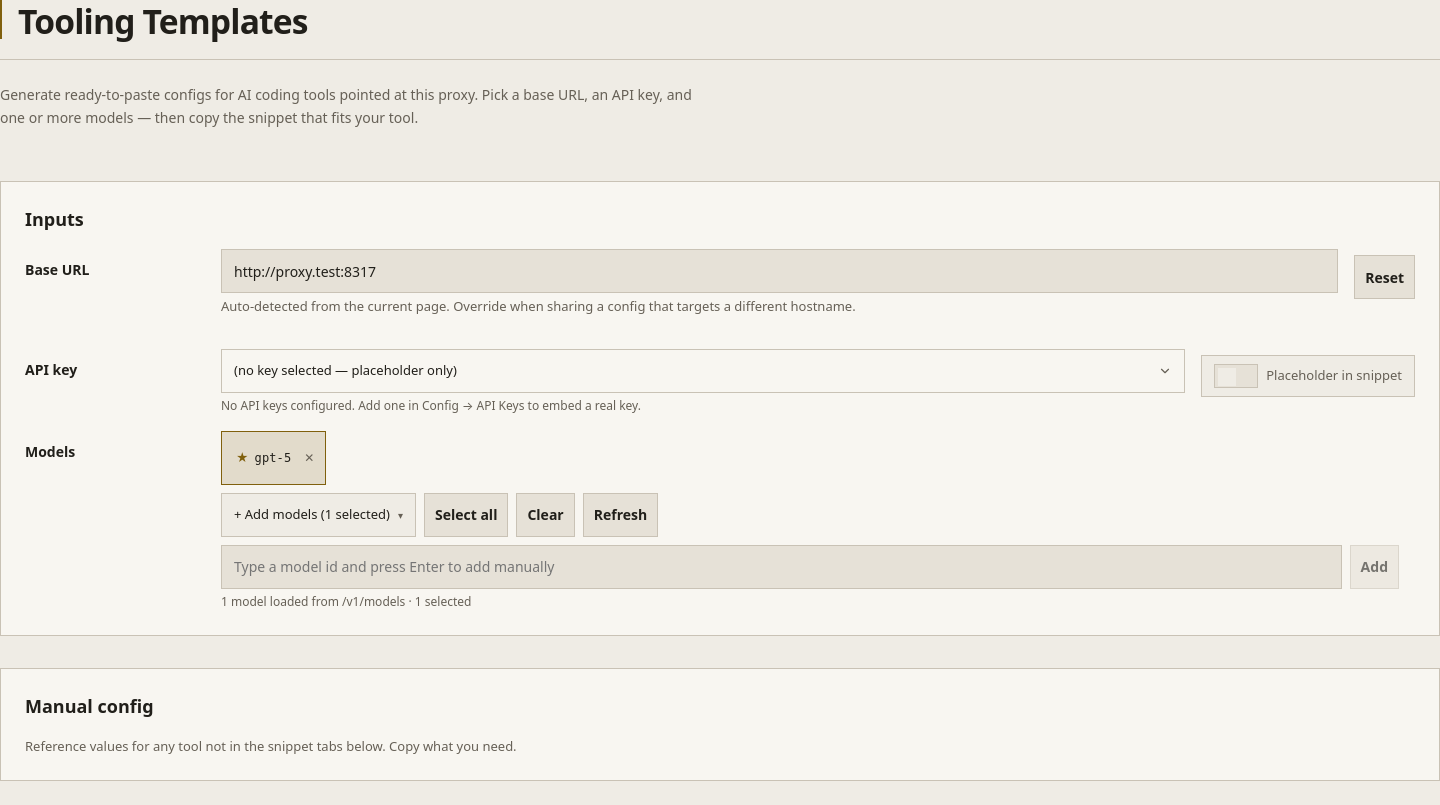
Test: ToolingTemplatesPage model chip actions › removes a model chip when its remove button is clicked
Expected: the text "gpt-5" is shown, x1=254 y1=448 x2=291 y2=466
Step 1. Click the button named "Remove gpt-5" → (309, 458), box x1=299 y1=436 x2=319 y2=480
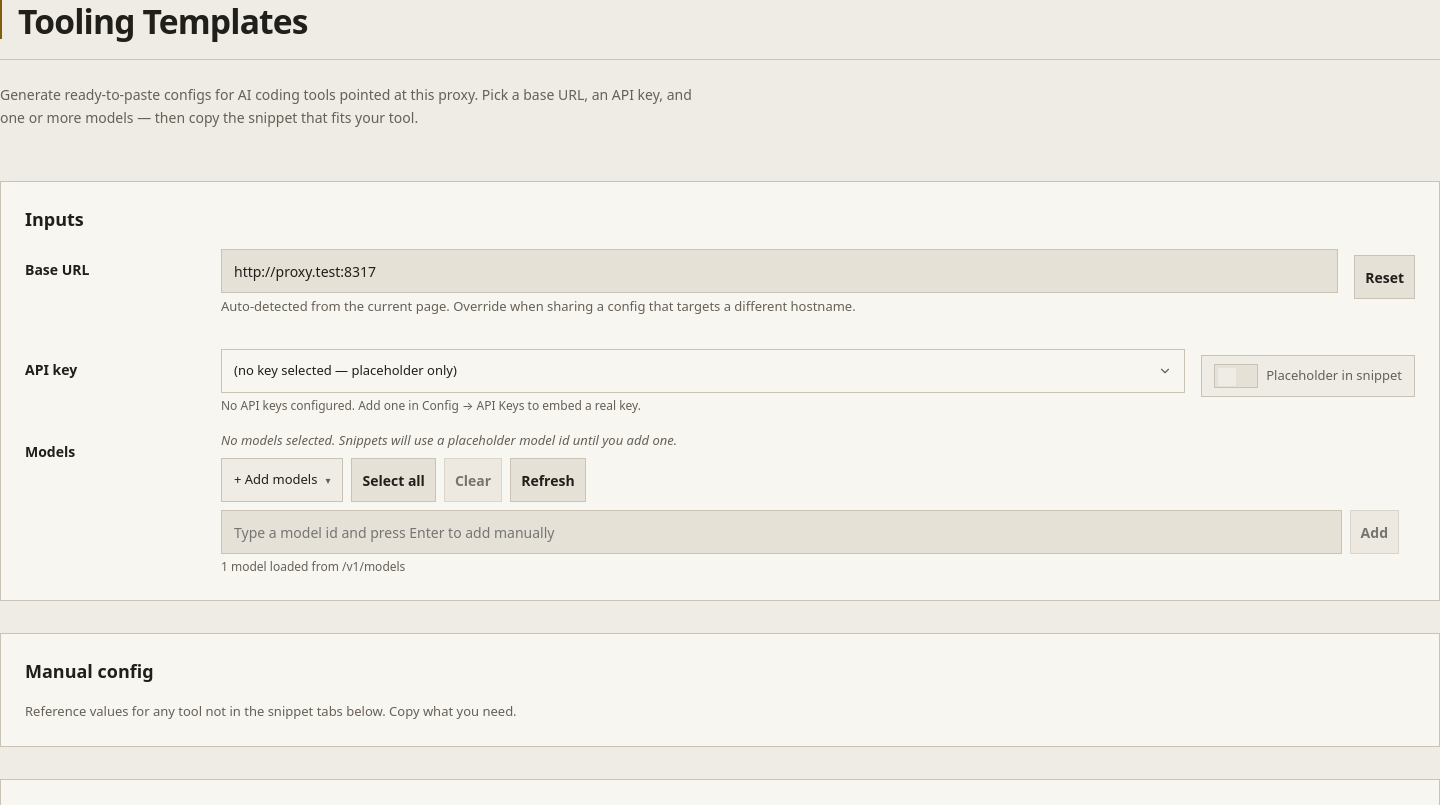
Now the text "No models selected." is shown, box x1=221 y1=430 x2=677 y2=448
